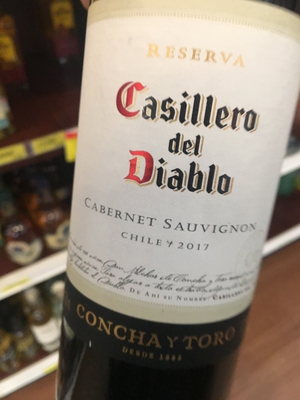casillero del diablo cabernet sauvignon: (62, 4, 300, 391)
